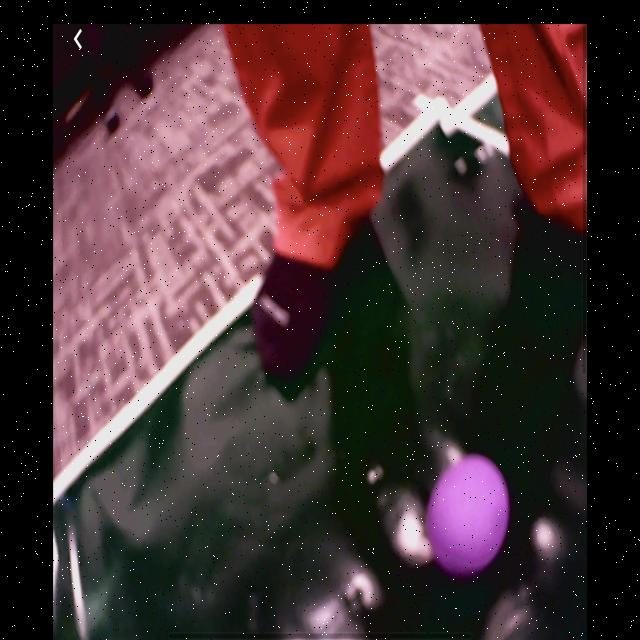ball: (427, 451, 510, 581)
